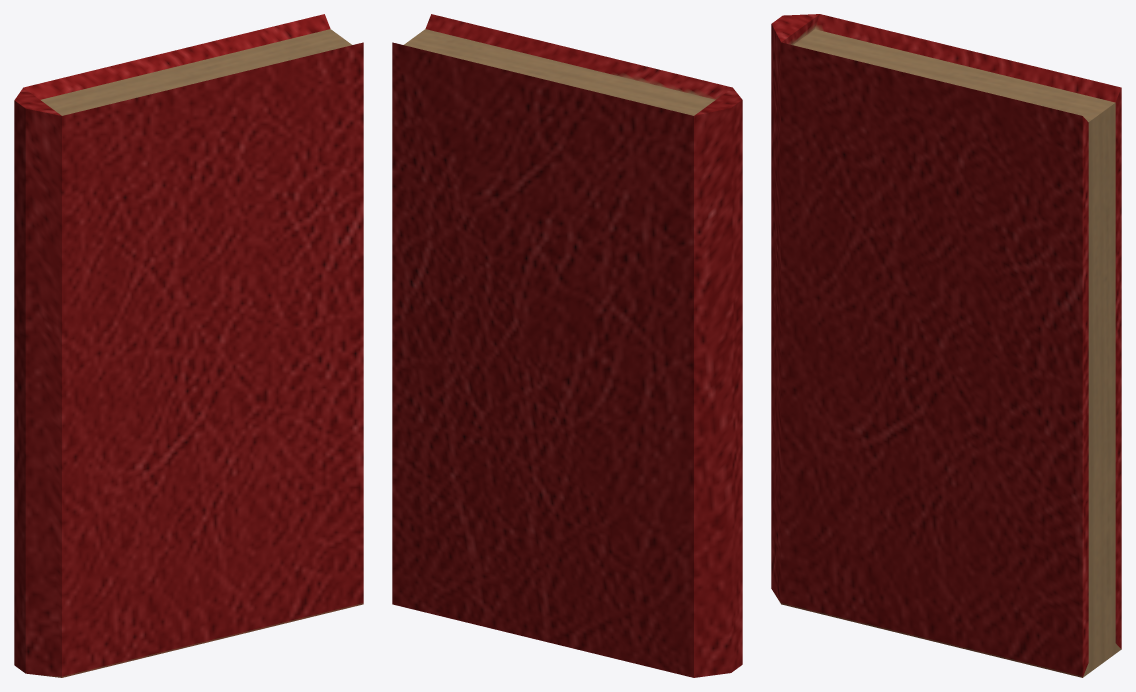
The model's file is Book color 1.fbx.
3 renders of one model, left to right at view 1: azimuth 30°, elevation 25°; view 2: azimuth 150°, elevation 25°; view 3: azimuth 330°, elevation 25°, orthographic.
Visible parts, largest first — view 1: Cube; view 2: Cube; view 3: Cube.
Boxes of the visible parts, x1=… form: Cube: x1=14, y1=14, x2=363, y2=677; Cube: x1=392, y1=14, x2=742, y2=677; Cube: x1=771, y1=14, x2=1121, y2=677.
Size of the model in its own units: 121 by 201 by 25.05.
Materials: 1 (1 with a texture image).
